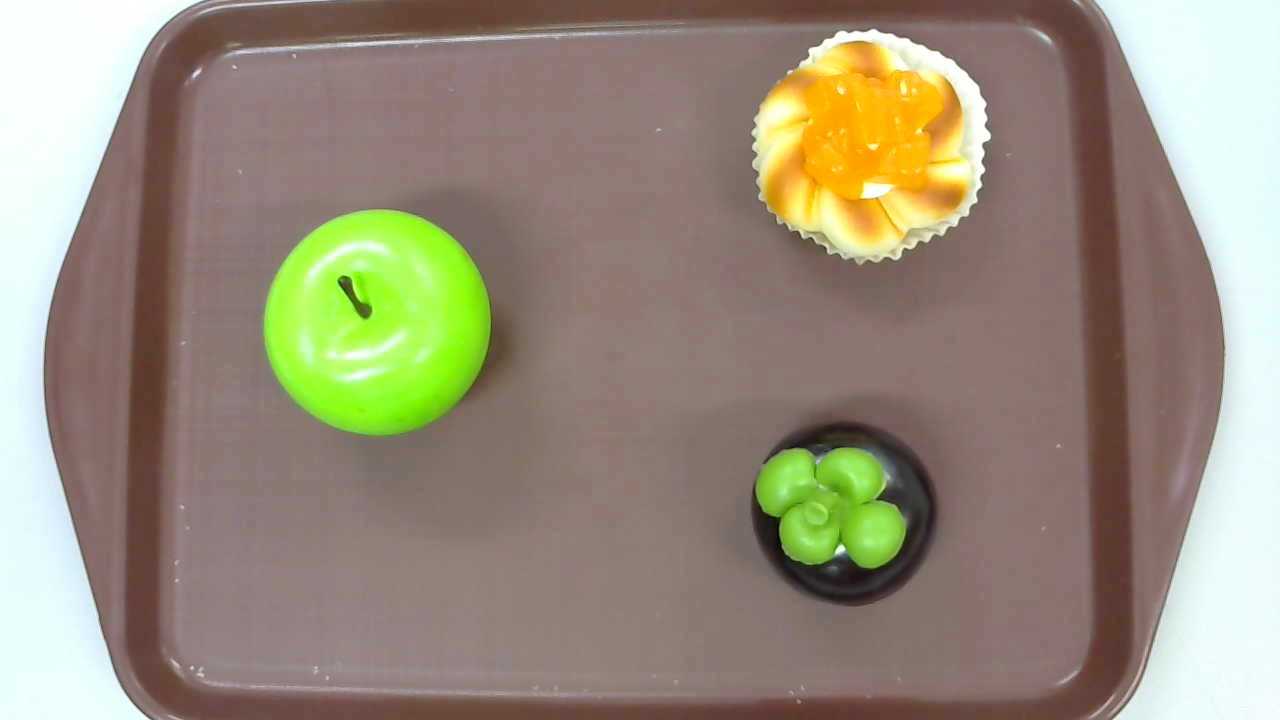green apple: (261, 208, 491, 439)
mango tart: (752, 28, 990, 268)
mangosteen: (751, 422, 937, 609)
